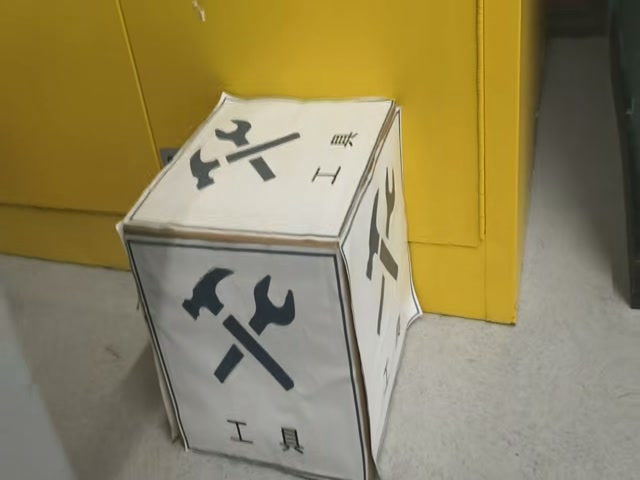Cube_tool: (115, 99, 402, 250)
